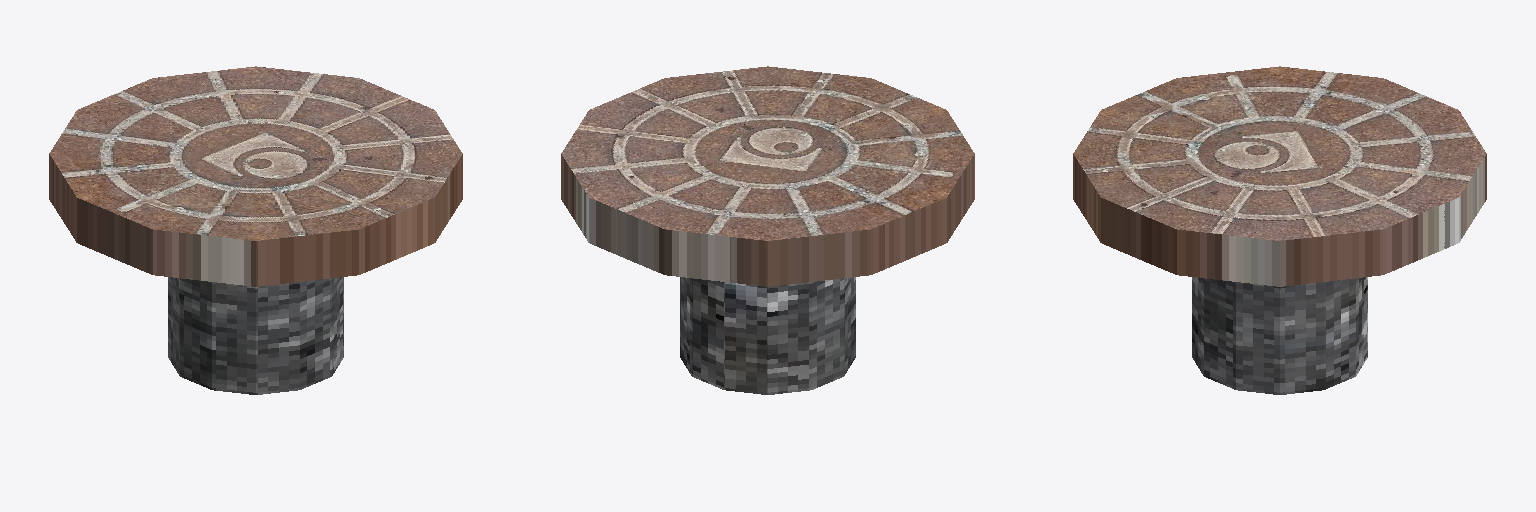
3 renders of one model, left to right at view 1: azimuth 30°, elevation 25°; view 2: azimuth 150°, elevation 25°; view 3: azimuth 270°, elevation 25°, orthographic.
Parts seen in each view (by area): view 1: Cylinder.006; view 2: Cylinder.006; view 3: Cylinder.006.
Part boxes in pixels (x1,y1,x2,y2): Cylinder.006: (49, 66, 462, 394); Cylinder.006: (561, 66, 974, 394); Cylinder.006: (1073, 66, 1486, 394).
Bounding box in the file's own units: 0.6245 × 0.3408 × 0.6245.
Materials: 1 (1 with a texture image).